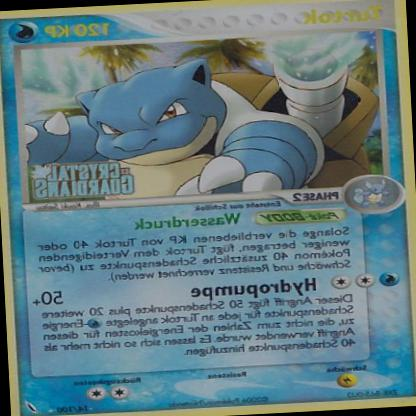Blastoise: (51, 31, 381, 201)
